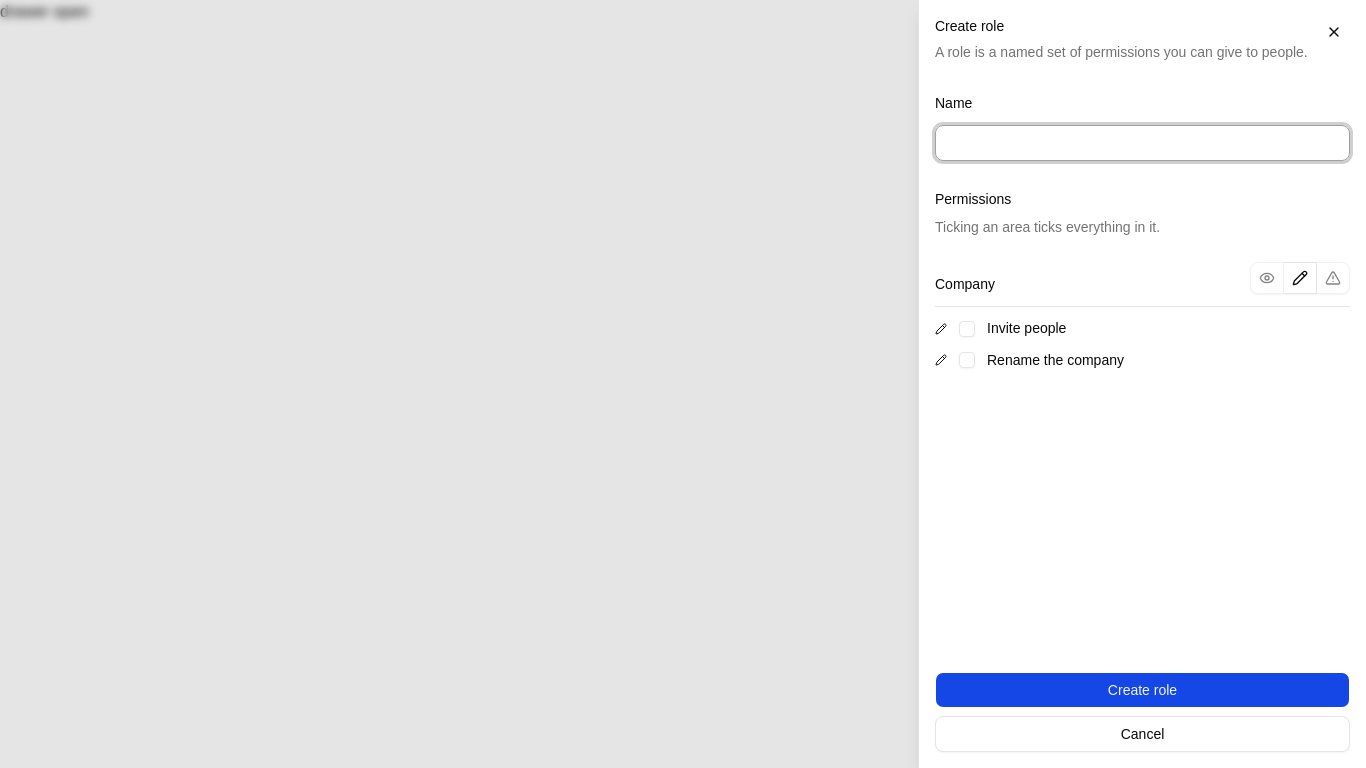
RoleDrawer › requires a name and at least one permission
Click the button "Create role": (1142, 690) [935, 672, 1350, 708]
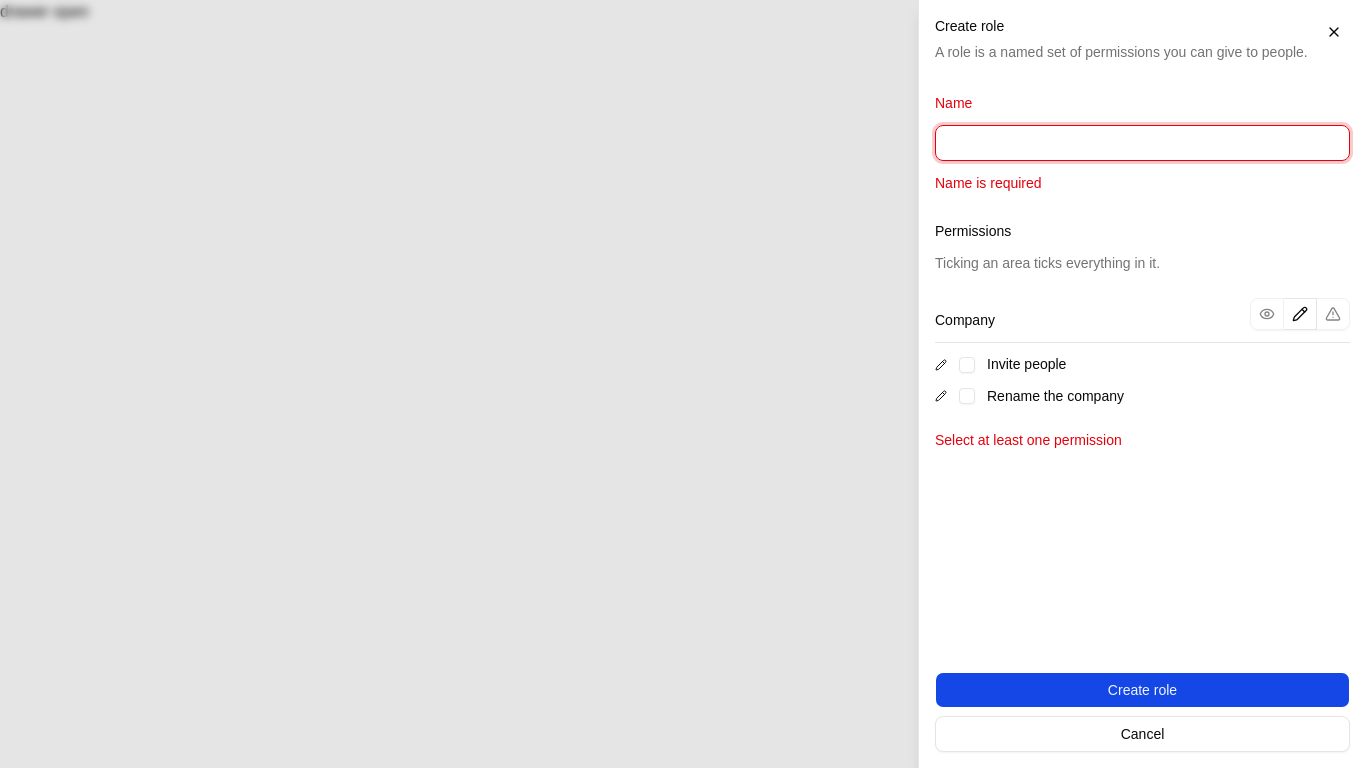
expect the text "Name is required" is shown: met, box [935, 175, 1042, 191]
expect the text "Select at least one permission" is shown: met, box [935, 432, 1122, 448]
